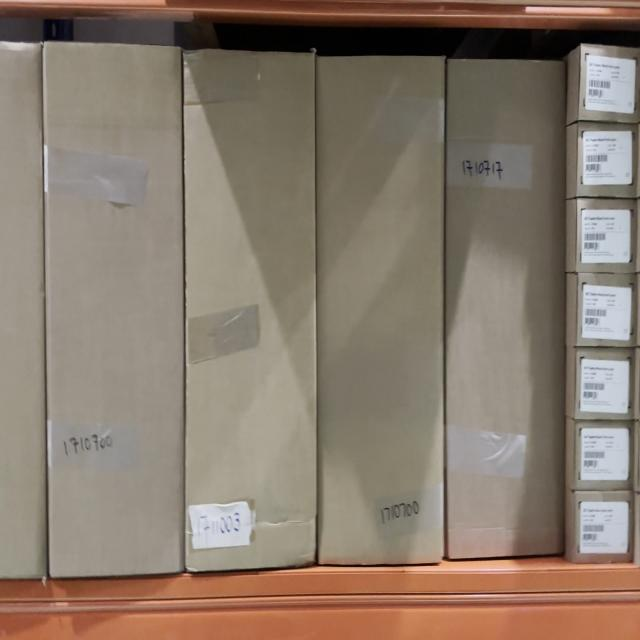box: (51, 50, 180, 572), (185, 52, 315, 562), (319, 58, 445, 562), (448, 63, 566, 559), (577, 123, 638, 196), (581, 46, 640, 120), (577, 201, 637, 272), (574, 352, 635, 418), (574, 494, 634, 561), (578, 277, 636, 345), (576, 423, 632, 487)
